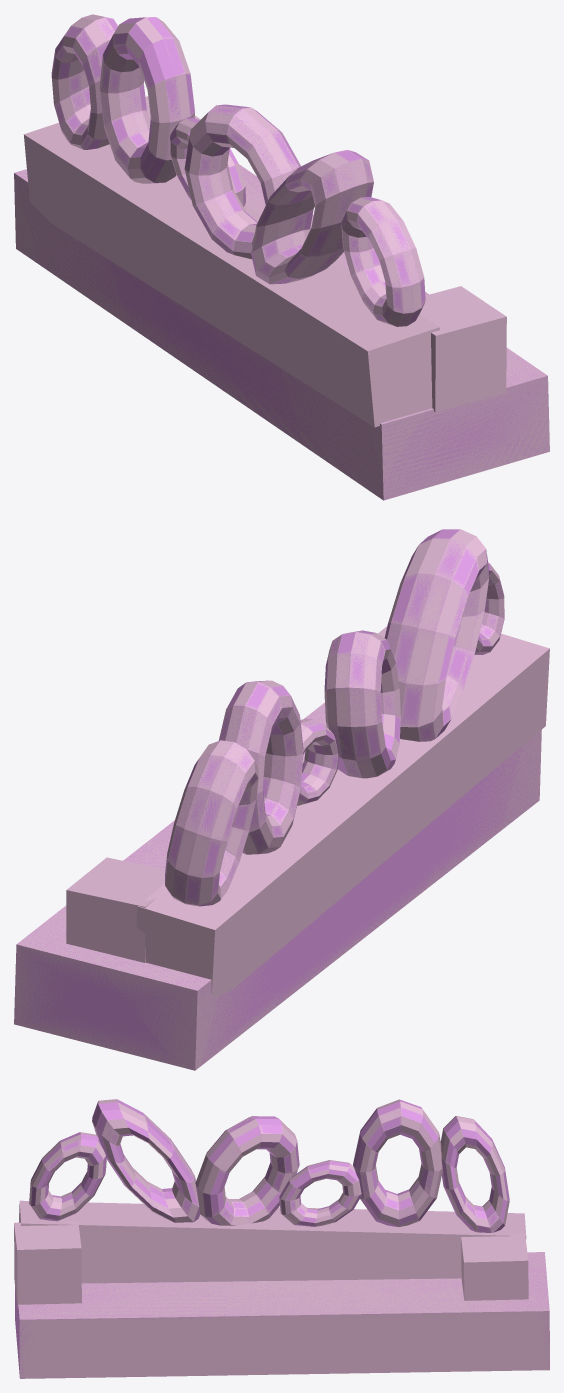
Rendered from decoratedBench.gltf.
The picture shows the model from 3 angles, top to bottom: view 1: azimuth 30°, elevation 25°; view 2: azimuth 150°, elevation 25°; view 3: azimuth 270°, elevation 25°; orthographic projection. The views are drawn at different scales.
Parts seen in each view (by area): view 1: group997983099, group795516396, group795516396.001, group997983099.001, group249111936, group250445496, group32685562, group672843478, group1115652965, group32685562.001, group249111936.001, group438409493 (+6 smaller); view 2: group997983099, group795516396.001, group997983099.001, group795516396, group249111936, group438409493, group250445496, group32685562, group249111936.001, group672843478.002, group438409493.001, group32685562.001 (+5 smaller); view 3: group795516396, group997983099, group997983099.001, group795516396.001, group672843478, group250445496, group32685562, group672843478.002, group249111936, group250445496.001, group32685562.001, group249111936.001 (+7 smaller).
Part boxes in pixels (x1,y1,x2,y2): group997983099: [24, 122, 439, 427]; group795516396: [14, 164, 549, 500]; group795516396.001: [14, 165, 549, 500]; group997983099.001: [23, 123, 439, 426]; group249111936: [251, 150, 373, 284]; group250445496: [184, 104, 300, 259]; group32685562: [99, 17, 194, 183]; group672843478: [419, 286, 506, 411]; group1115652965: [341, 197, 425, 326]; group32685562.001: [99, 17, 194, 183]; group249111936.001: [251, 150, 373, 284]; group438409493: [51, 14, 117, 149]; group997983099: [136, 633, 549, 998]; group795516396.001: [14, 703, 541, 1069]; group997983099.001: [137, 635, 549, 998]; group795516396: [14, 702, 541, 1070]; group249111936: [387, 529, 488, 741]; group438409493: [165, 740, 258, 906]; group250445496: [324, 630, 400, 778]; group32685562: [218, 680, 303, 854]; group249111936.001: [384, 529, 488, 741]; group672843478.002: [66, 857, 165, 962]; group438409493.001: [165, 740, 258, 906]; group32685562.001: [219, 680, 303, 854]; group795516396: [16, 1252, 549, 1378]; group997983099: [18, 1200, 526, 1283]; group997983099.001: [20, 1200, 525, 1283]; group795516396.001: [15, 1252, 549, 1378]; group672843478: [14, 1221, 81, 1307]; group250445496: [195, 1116, 299, 1225]; group32685562: [353, 1099, 442, 1227]; group672843478.002: [461, 1233, 528, 1300]; group249111936: [92, 1099, 199, 1222]; group250445496.001: [195, 1116, 299, 1225]; group32685562.001: [353, 1099, 439, 1226]; group249111936.001: [92, 1099, 199, 1222].
Bounding box in the file's own units: 1.54 × 2.23 × 4.82.
